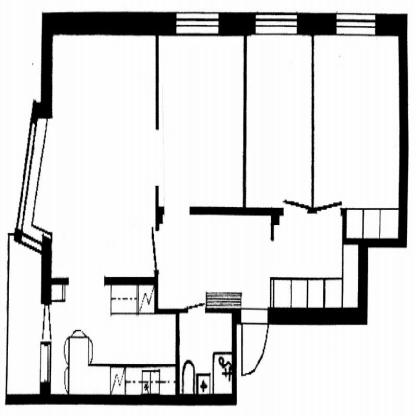door: (35, 32, 158, 280), (314, 30, 399, 240), (158, 31, 245, 209), (50, 282, 175, 394), (247, 32, 313, 209), (160, 209, 274, 303), (275, 210, 361, 315), (9, 234, 47, 394), (178, 313, 232, 393), (240, 308, 270, 380), (280, 197, 311, 219), (150, 226, 161, 278), (178, 296, 205, 315), (41, 306, 53, 343), (314, 199, 342, 214)
zone: (176, 13, 219, 36), (336, 13, 376, 37), (255, 13, 296, 34)
